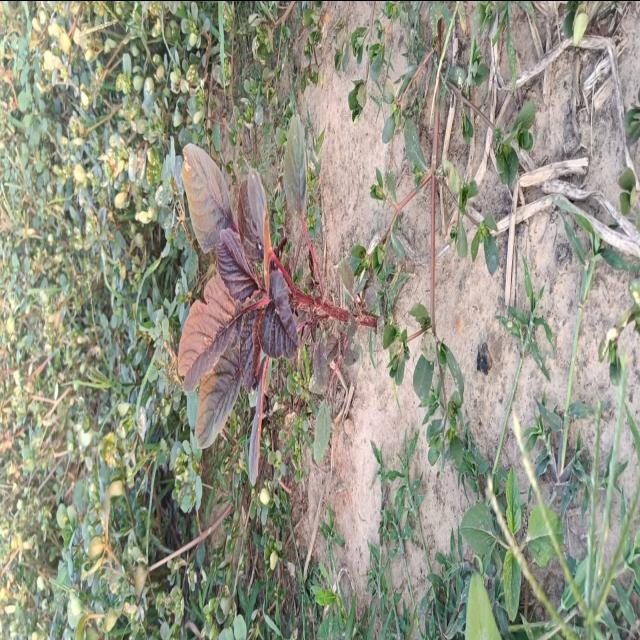plant: (178, 114, 377, 485), (314, 399, 330, 460)
